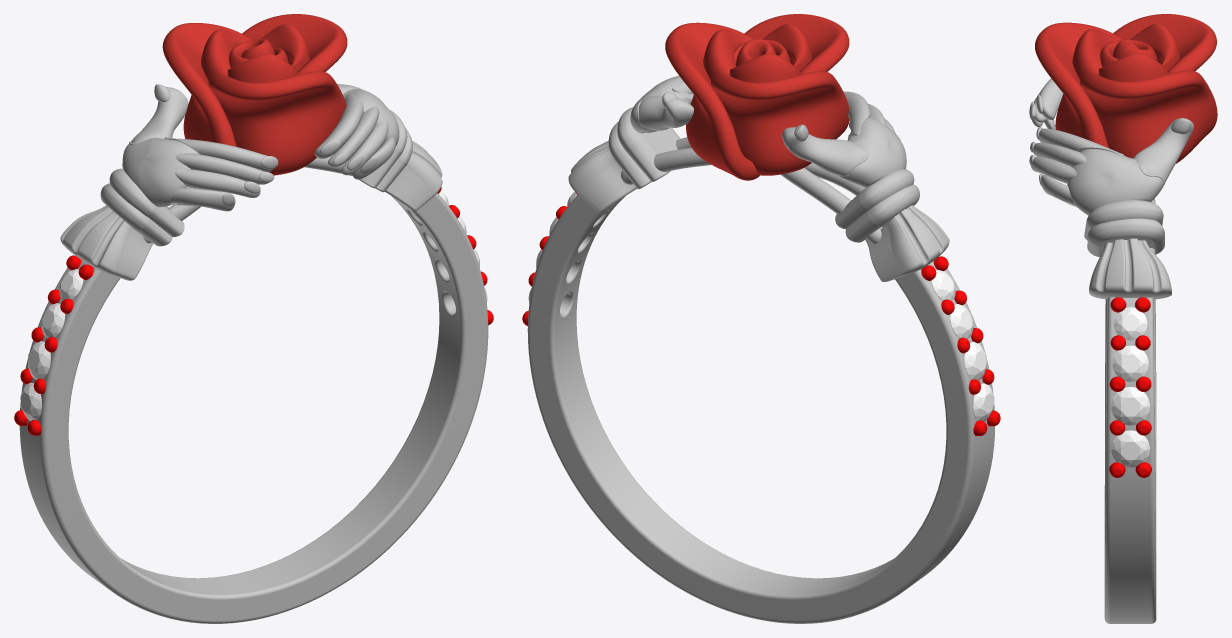
3 views of the same model, side by side, from view 1: azimuth 30°, elevation 25°; view 2: azimuth 150°, elevation 25°; view 3: azimuth 270°, elevation 25° (orthographic).
Parts seen in each view (by area): view 1: /RG29.3dm, Diamond_Round.002; view 2: /RG29.3dm, Diamond_Round.002; view 3: /RG29.3dm, Diamond_Round.005, Diamond_Round.004, Diamond_Round.006, Diamond_Round.007.
Part boxes in pixels (x1=…): /RG29.3dm: x1=19, y1=14, x2=488, y2=623; Diamond_Round.002: x1=28, y1=341, x2=50, y2=379; /RG29.3dm: x1=527, y1=14, x2=994, y2=623; Diamond_Round.002: x1=964, y1=341, x2=986, y2=380; /RG29.3dm: x1=1029, y1=14, x2=1217, y2=623; Diamond_Round.005: x1=1111, y1=387, x2=1149, y2=425; Diamond_Round.004: x1=1111, y1=430, x2=1149, y2=467; Diamond_Round.006: x1=1112, y1=345, x2=1148, y2=381; Diamond_Round.007: x1=1114, y1=307, x2=1147, y2=340.
Bounding box in the file's own units: 2.25 × 2.67 × 0.8048.
